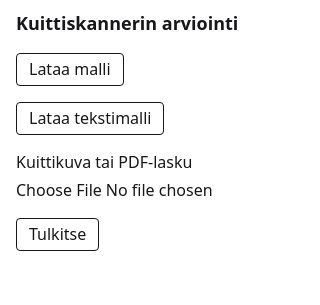
Scenario: KuittiArviointi › näyttää virheen ja sallii uuden yrityksen kun mallin lataus epäonnistuu
Click the button "Lataa malli" at x=70, y=70, box [16,53,124,86]
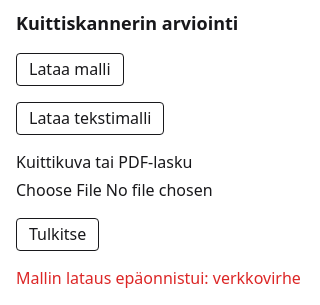
Result: the message shows "lataus epäonnistui" at [16,267,301,289]
